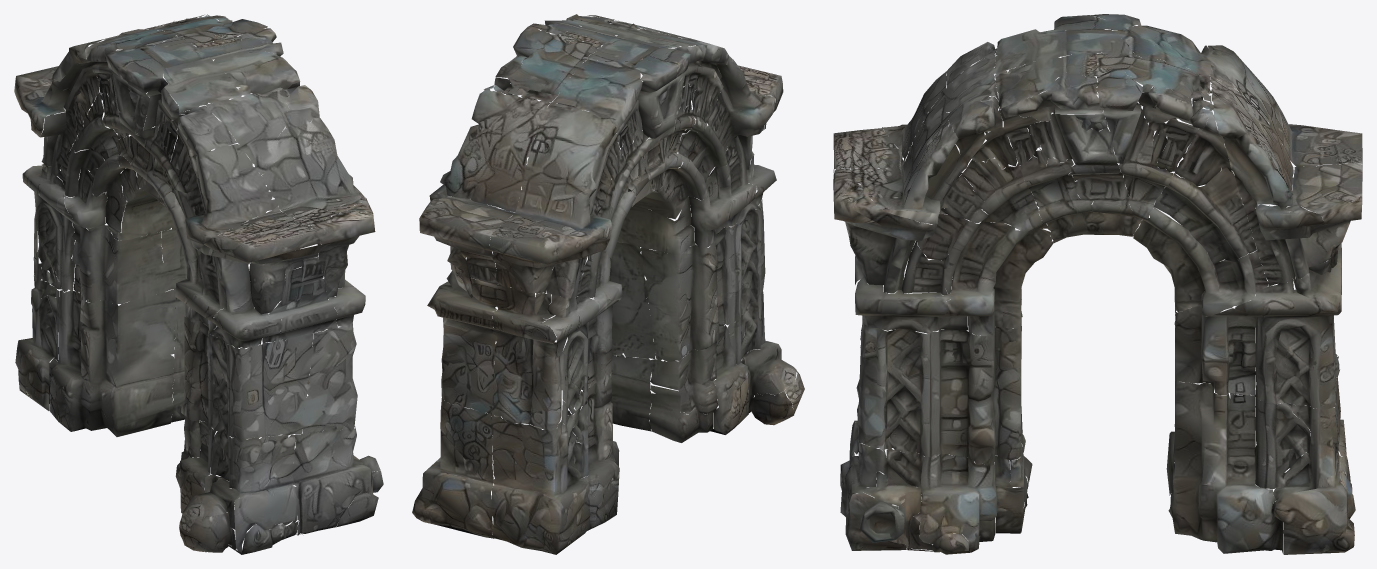
File: ruin_arch_portal_LOD1.glb
The picture shows the model from 3 angles, left to right: view 1: azimuth 30°, elevation 25°; view 2: azimuth 150°, elevation 25°; view 3: azimuth 270°, elevation 25°; orthographic projection. The views are drawn at different scales.
Parts seen in each view (by area): view 1: tripo_node_d8a1d5da-c2f6-40ee-9562-3897e08a0c6e; view 2: tripo_node_d8a1d5da-c2f6-40ee-9562-3897e08a0c6e; view 3: tripo_node_d8a1d5da-c2f6-40ee-9562-3897e08a0c6e.
Part boxes in pixels (x1,y1,x2,y2): tripo_node_d8a1d5da-c2f6-40ee-9562-3897e08a0c6e: (14,14,383,554); tripo_node_d8a1d5da-c2f6-40ee-9562-3897e08a0c6e: (412,14,804,554); tripo_node_d8a1d5da-c2f6-40ee-9562-3897e08a0c6e: (833,14,1362,554).
Bounding box in the file's own units: 0.4615 × 1 × 1.
1 material, 1 textured.
